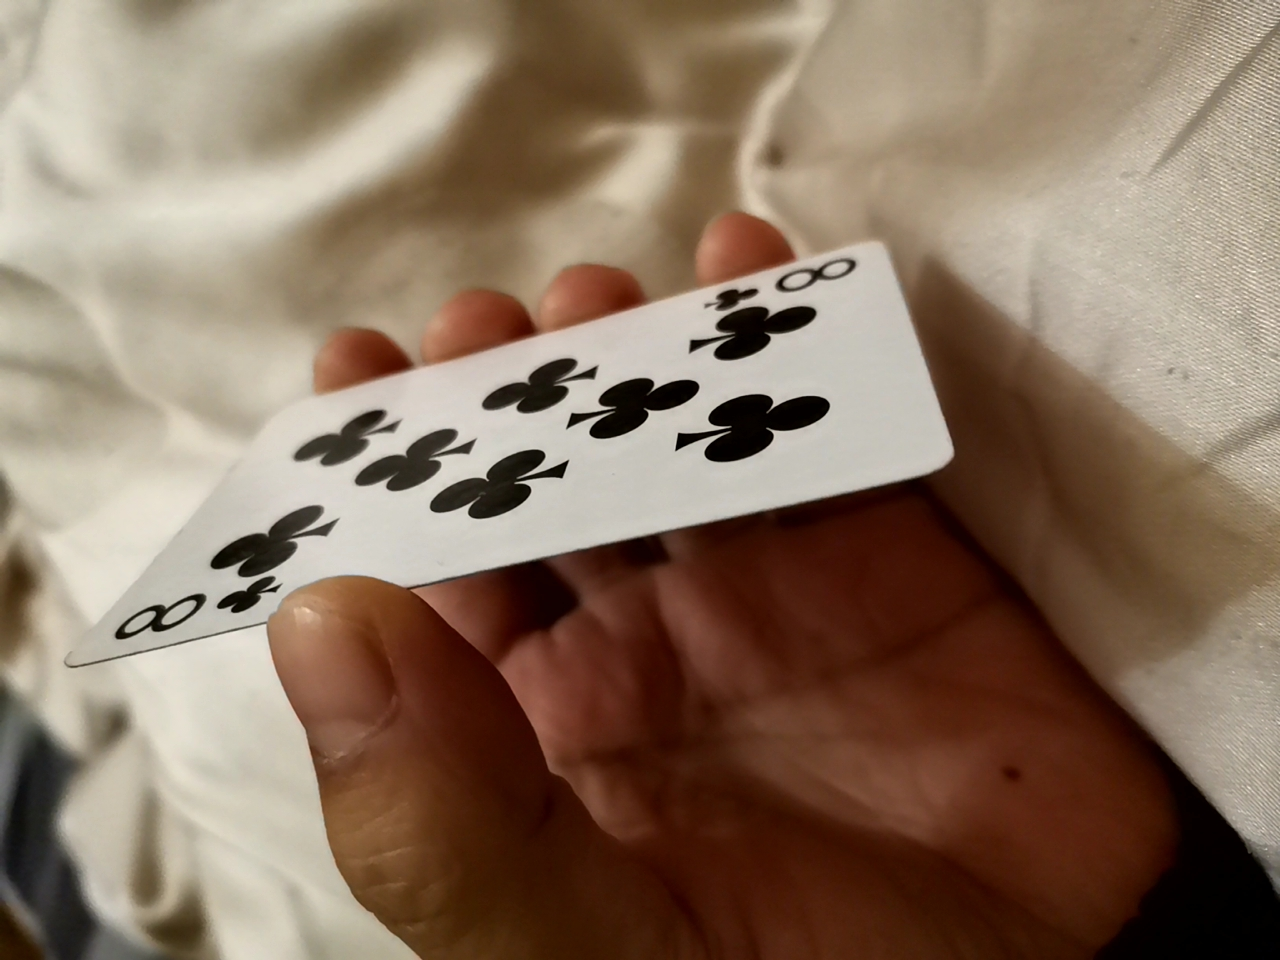mh 8: (193, 259, 946, 590)
